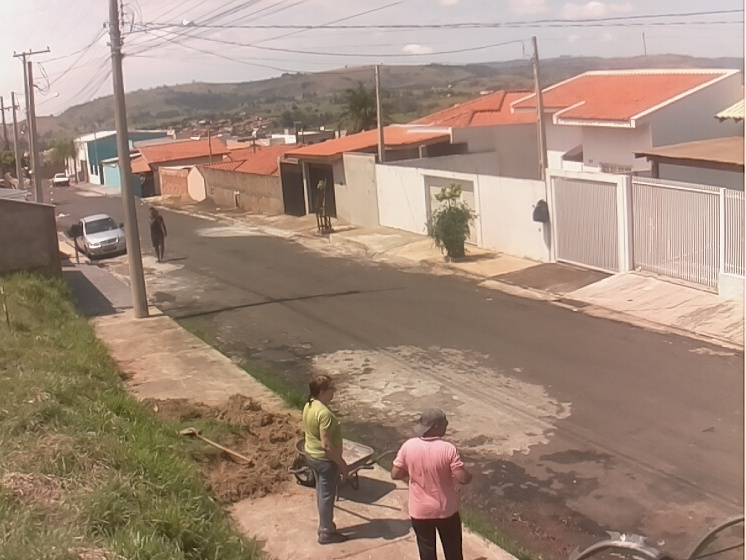person: (390, 407, 473, 560), (302, 375, 351, 544), (148, 208, 168, 263)
